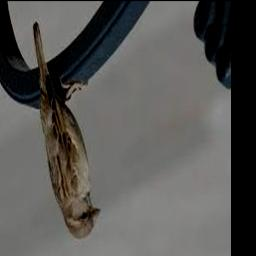Sparrow: (32, 22, 100, 239)
